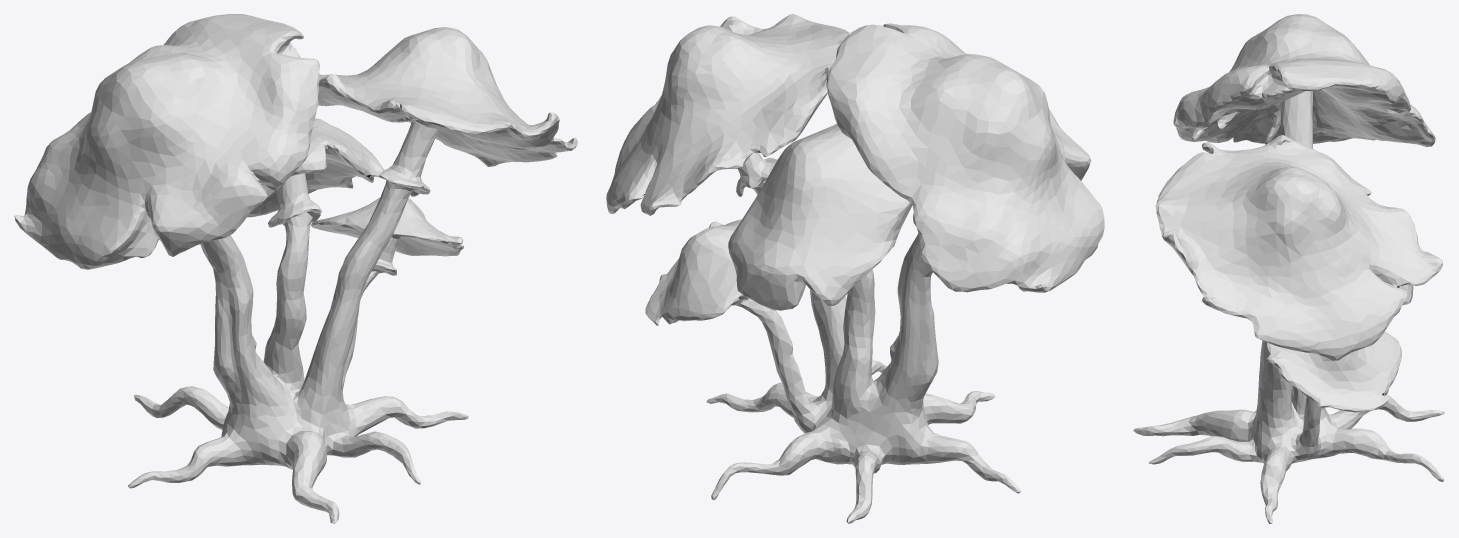
File: mushroom03.glb
3 views of the same model, side by side, from view 1: azimuth 30°, elevation 25°; view 2: azimuth 150°, elevation 25°; view 3: azimuth 270°, elevation 25° (orthographic). The views are drawn at different scales.
Visible parts, largest first — view 1: Low; view 2: Low; view 3: Low.
Part boxes in pixels (x1,y1,x2,y2): Low: (14,14,577,523); Low: (606,14,1104,523); Low: (1133,14,1444,523).
Bounding box in the file's own units: 1.98 × 1.69 × 1.25.
Materials: 1 (1 with a texture image).
